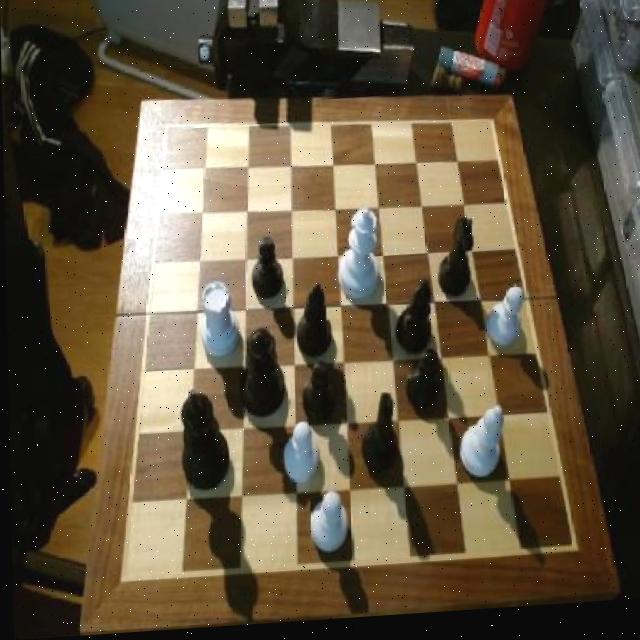bishop: (390, 284, 434, 366), (291, 286, 330, 367)
black-bishop: (175, 389, 227, 495)
black-king: (434, 218, 478, 307), (356, 395, 398, 477)
black-knight: (401, 351, 440, 417), (247, 238, 284, 305), (298, 364, 335, 428)
black-pawn: (237, 329, 281, 422)
black-rook: (454, 410, 504, 485)
white-knight: (483, 290, 525, 359), (305, 491, 347, 560), (279, 421, 316, 487)
white-pawn: (332, 208, 381, 307)
white-queen: (198, 282, 239, 364)
